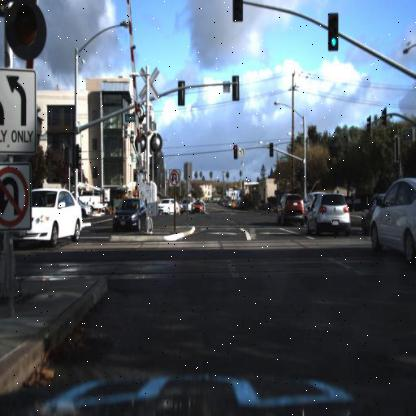car: (3, 186, 82, 252), (366, 178, 414, 265), (305, 188, 352, 239), (110, 191, 154, 233), (274, 190, 304, 228), (301, 190, 317, 228), (156, 192, 180, 216), (191, 198, 205, 214)
trafficLight: (7, 3, 52, 68), (327, 12, 339, 50), (232, 139, 239, 161), (268, 139, 275, 157)
trafficLight-Green: (299, 162, 305, 182)
